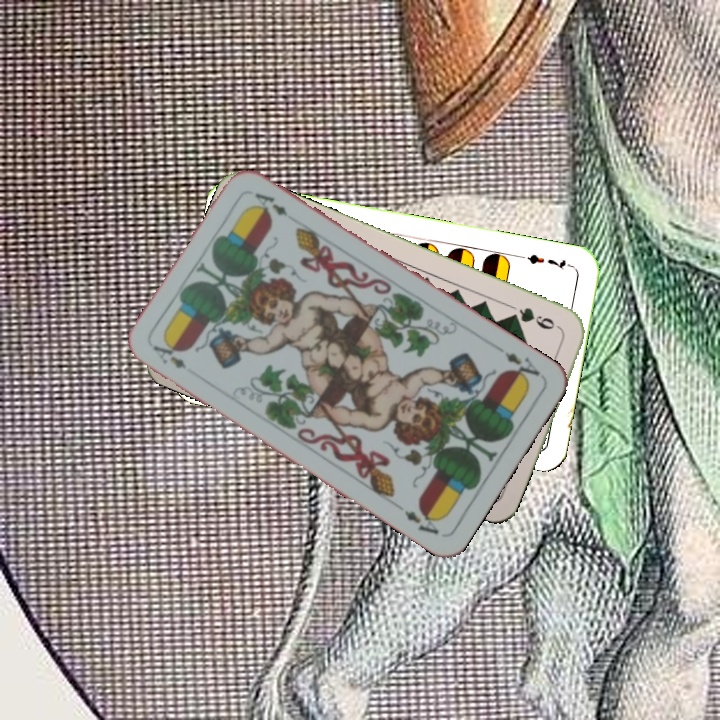E7: (516, 250, 575, 273)
EA: (501, 347, 543, 386), (149, 341, 189, 372)
G9: (505, 303, 564, 333)
